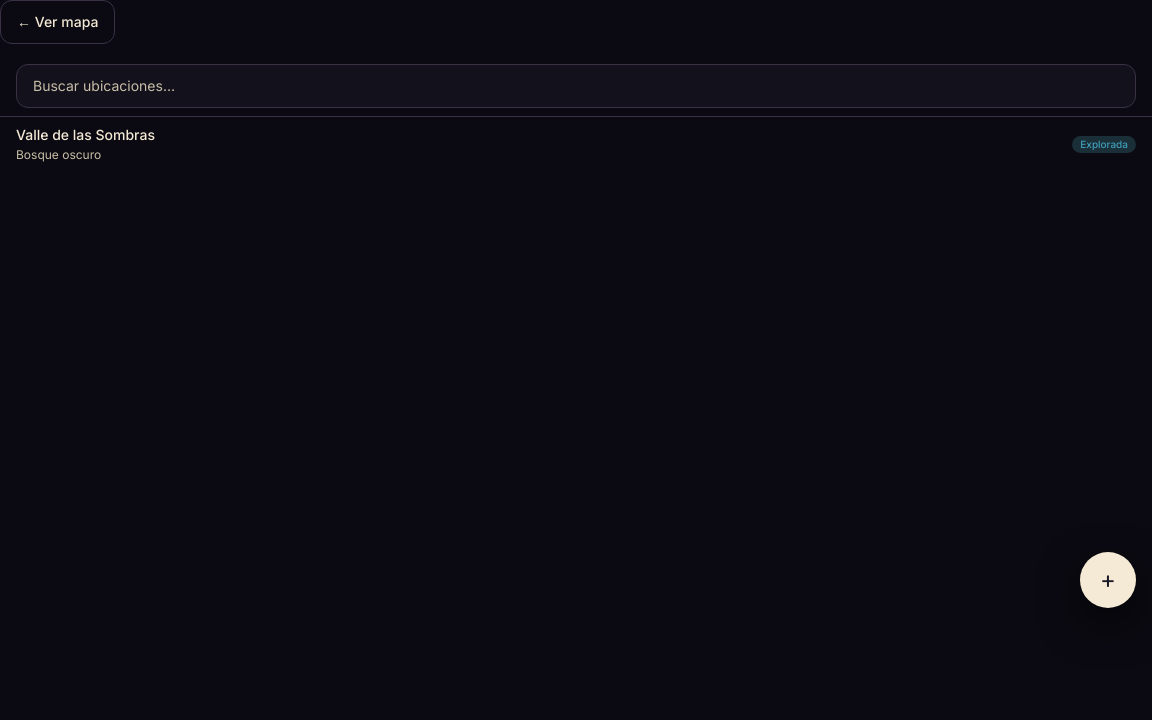
Test case: HexClientWrapper — DM view (effectiveView="dm") › (a) edit button is present in detail sheet when DM taps a hex row
What coordinates should you click on to do the following:
click the button "Valle de las Sombras Bosque oscuro Explorada"
I would click on:
 (85, 134)
Its box is [0,117,1151,171].
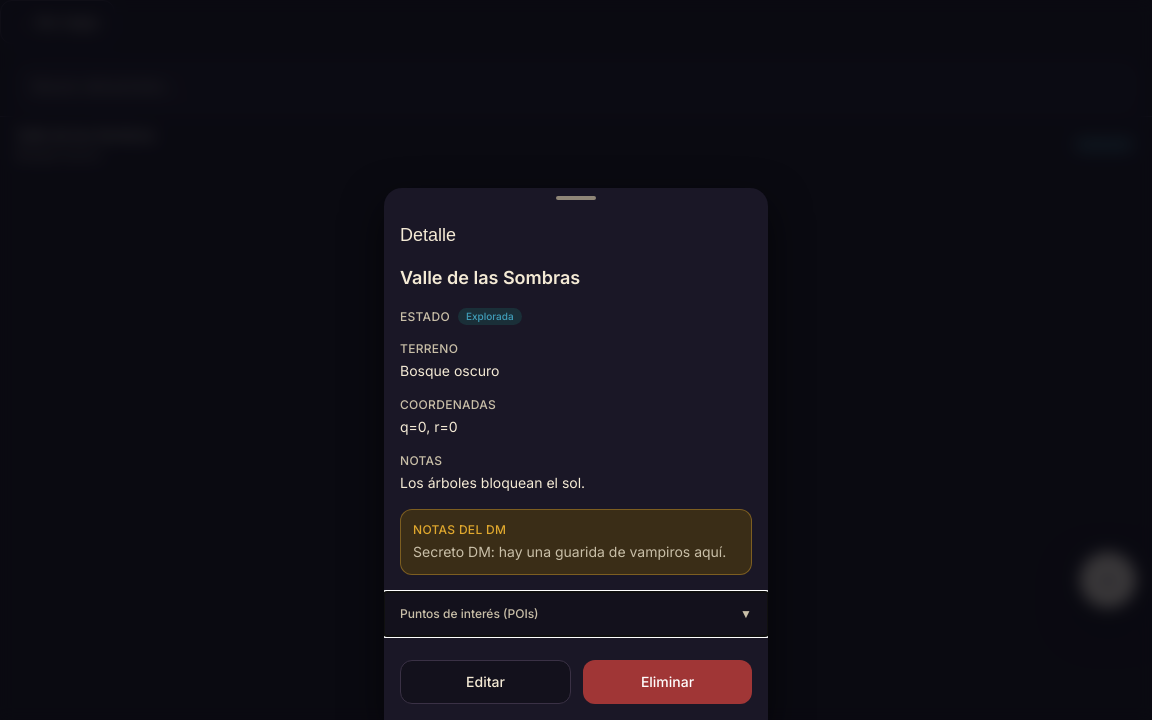
Check: the button "Editar" is shown, box [400,660,571,704]
